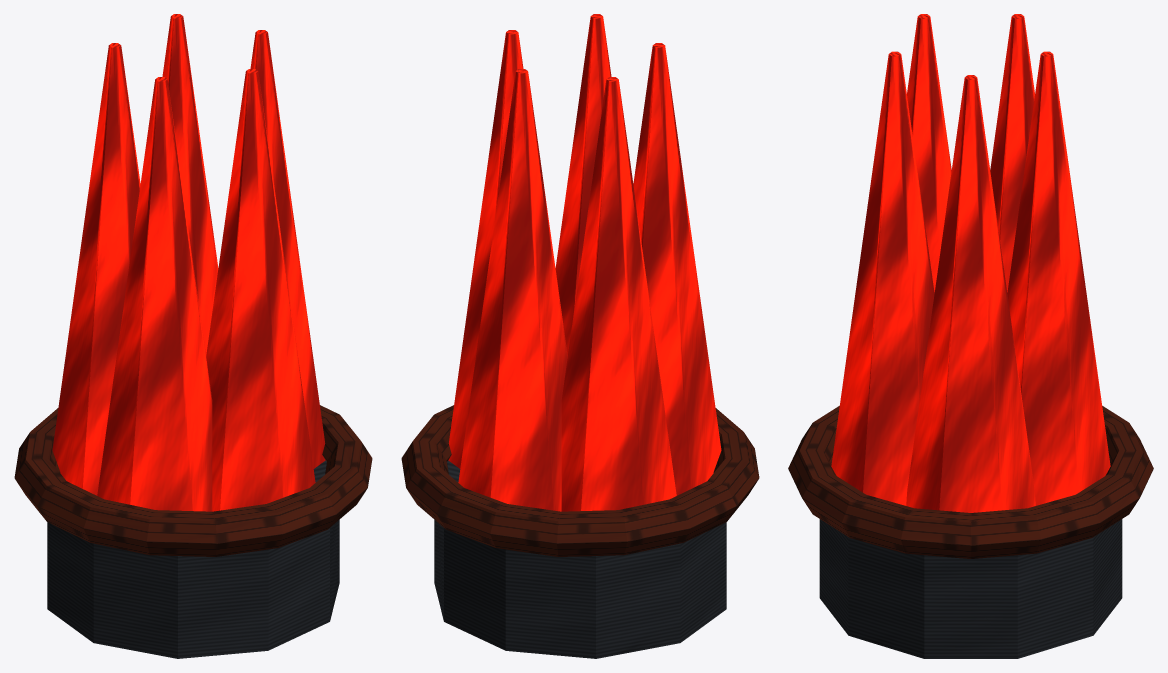
File: SM_FC_FlameJet.glb
3 views of the same model, side by side, from view 1: azimuth 30°, elevation 25°; view 2: azimuth 150°, elevation 25°; view 3: azimuth 270°, elevation 25° (orthographic).
Visible parts, largest first — view 1: SM_FC_FlameJet; view 2: SM_FC_FlameJet; view 3: SM_FC_FlameJet.
Part boxes in pixels (x1,y1,x2,y2): SM_FC_FlameJet: (14,14,372,658); SM_FC_FlameJet: (401,14,759,658); SM_FC_FlameJet: (788,14,1153,658).
Bounding box in the file's own units: 0.87 × 1.46 × 0.87.
Materials: 3 (3 with a texture image).
